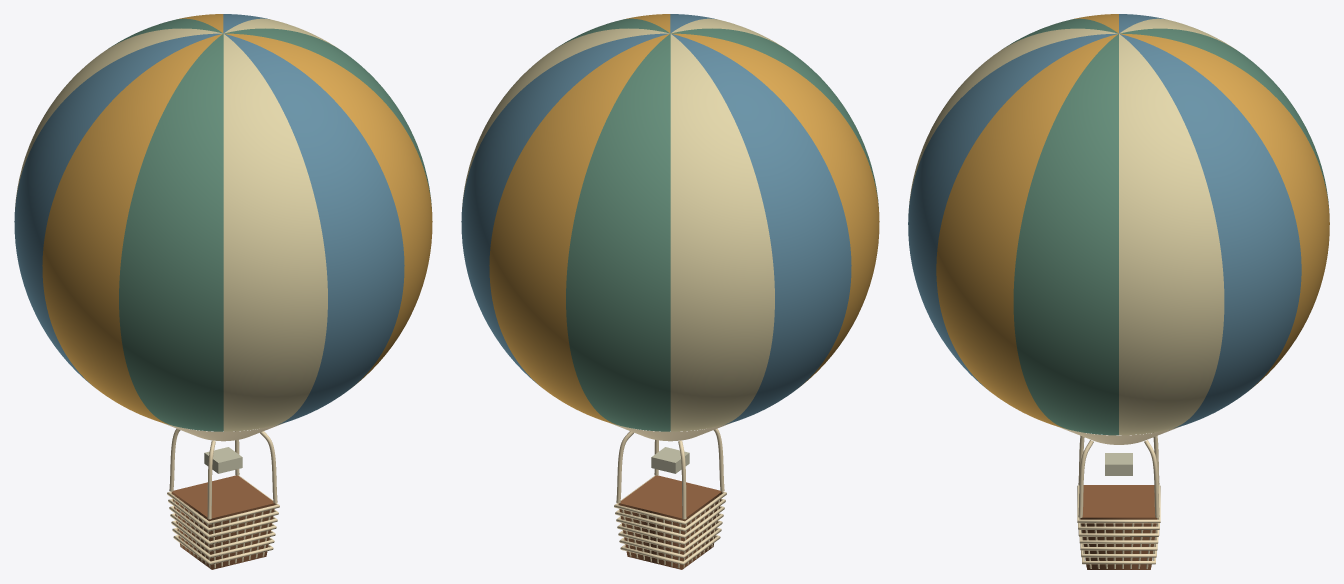
Rendered from round-balloon.glb.
3 views of the same model, side by side, from view 1: azimuth 30°, elevation 25°; view 2: azimuth 150°, elevation 25°; view 3: azimuth 270°, elevation 25° (orthographic).
Visible parts, largest first — view 1: RoundEnvelope_1, RoundEnvelope_2, RoundEnvelope_0, RoundEnvelope_3, RoundEnvelope_4, RoundEnvelope_11, BasketBody, RoundEnvelope_5, RoundEnvelope_10, BurnerFrame, EnvelopeNeck, RoundEnvelope_6 (+2 smaller); view 2: RoundEnvelope_9, RoundEnvelope_10, RoundEnvelope_8, RoundEnvelope_11, RoundEnvelope_0, RoundEnvelope_7, BasketBody, RoundEnvelope_1, RoundEnvelope_6, BurnerFrame, EnvelopeNeck, RoundEnvelope_2 (+2 smaller); view 3: RoundEnvelope_5, RoundEnvelope_6, RoundEnvelope_4, RoundEnvelope_7, RoundEnvelope_3, RoundEnvelope_8, BasketBody, RoundEnvelope_2, RoundEnvelope_9, EnvelopeNeck, RoundEnvelope_1, RoundEnvelope_10 (+2 smaller).
Boxes of the visible parts, box(x1,y1,x2,y2) form: RoundEnvelope_1: box(119, 33, 223, 431); RoundEnvelope_2: box(223, 34, 327, 431); RoundEnvelope_0: box(42, 34, 222, 425); RoundEnvelope_3: box(224, 34, 404, 425); RoundEnvelope_4: box(224, 33, 432, 386); RoundEnvelope_11: box(14, 33, 222, 386); BasketBody: box(171, 475, 275, 569); RoundEnvelope_5: box(224, 28, 431, 207); RoundEnvelope_10: box(15, 28, 222, 207); BurnerFrame: box(204, 447, 242, 473); EnvelopeNeck: box(163, 423, 283, 441); RoundEnvelope_6: box(224, 18, 338, 48); RoundEnvelope_9: box(566, 33, 670, 431); RoundEnvelope_10: box(670, 34, 774, 431); RoundEnvelope_8: box(489, 34, 669, 425); RoundEnvelope_11: box(671, 34, 851, 425); RoundEnvelope_0: box(671, 33, 879, 386); RoundEnvelope_7: box(461, 33, 669, 386); BasketBody: box(618, 475, 722, 569); RoundEnvelope_1: box(671, 28, 878, 207); RoundEnvelope_6: box(462, 28, 669, 207); BurnerFrame: box(651, 447, 689, 473); EnvelopeNeck: box(610, 423, 730, 441); RoundEnvelope_2: box(671, 18, 785, 48); RoundEnvelope_5: box(1013, 34, 1118, 435); RoundEnvelope_6: box(1119, 34, 1224, 435); RoundEnvelope_4: box(936, 34, 1117, 428); RoundEnvelope_7: box(1120, 34, 1301, 428); RoundEnvelope_3: box(908, 33, 1118, 391); RoundEnvelope_8: box(1119, 33, 1329, 391); BasketBody: box(1080, 485, 1157, 569); RoundEnvelope_2: box(908, 28, 1117, 209); RoundEnvelope_9: box(1120, 28, 1329, 209); EnvelopeNeck: box(1057, 426, 1180, 444); RoundEnvelope_1: box(1002, 18, 1118, 49); RoundEnvelope_10: box(1119, 18, 1235, 49).
Size of the model in its own units: 4.5 by 6.15 by 4.5.
